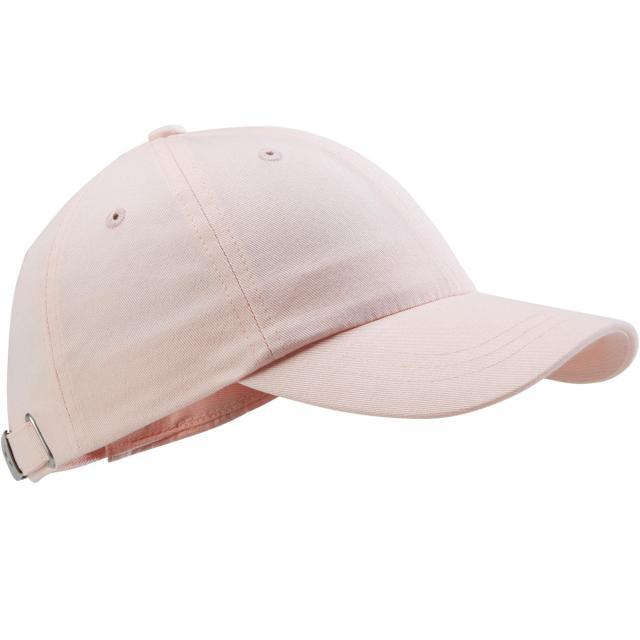cap: (2, 92, 640, 526)
